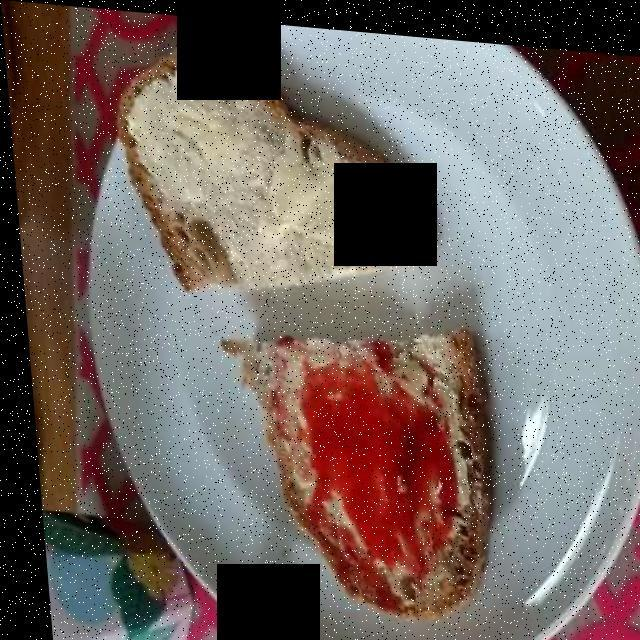bread: (102, 44, 475, 608)
butter: (123, 63, 463, 525)
jam: (275, 362, 465, 588)
